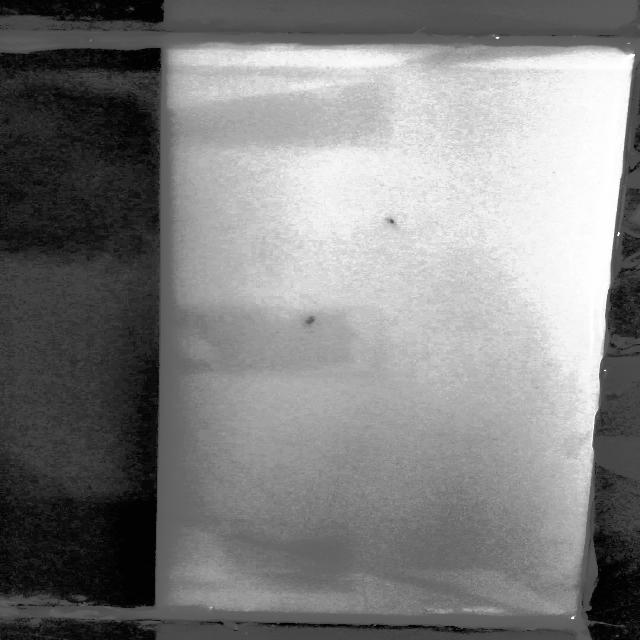shrimp: (290, 314, 328, 332), (376, 213, 403, 232)
